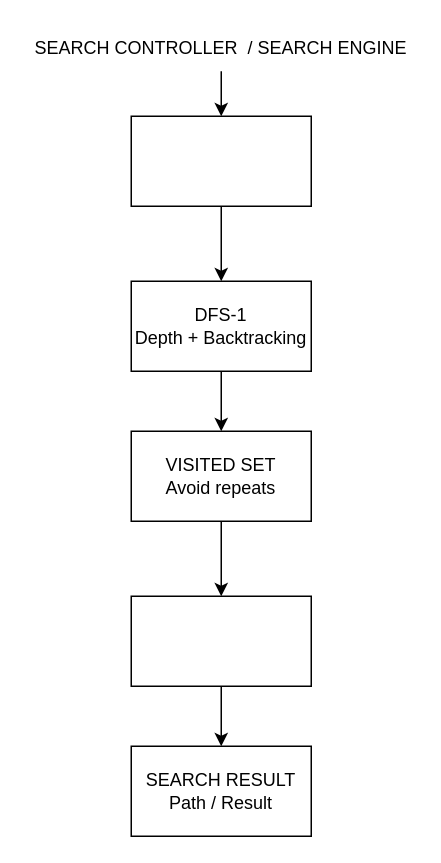
Image size: 441x863. Some labels were removed from this diagram. The centre of each missing label's shape, as x and y in pixels:
BFS-1 Queue + Level Search: (220,160)
GOAL TEST Current == AF?: (220,640)
